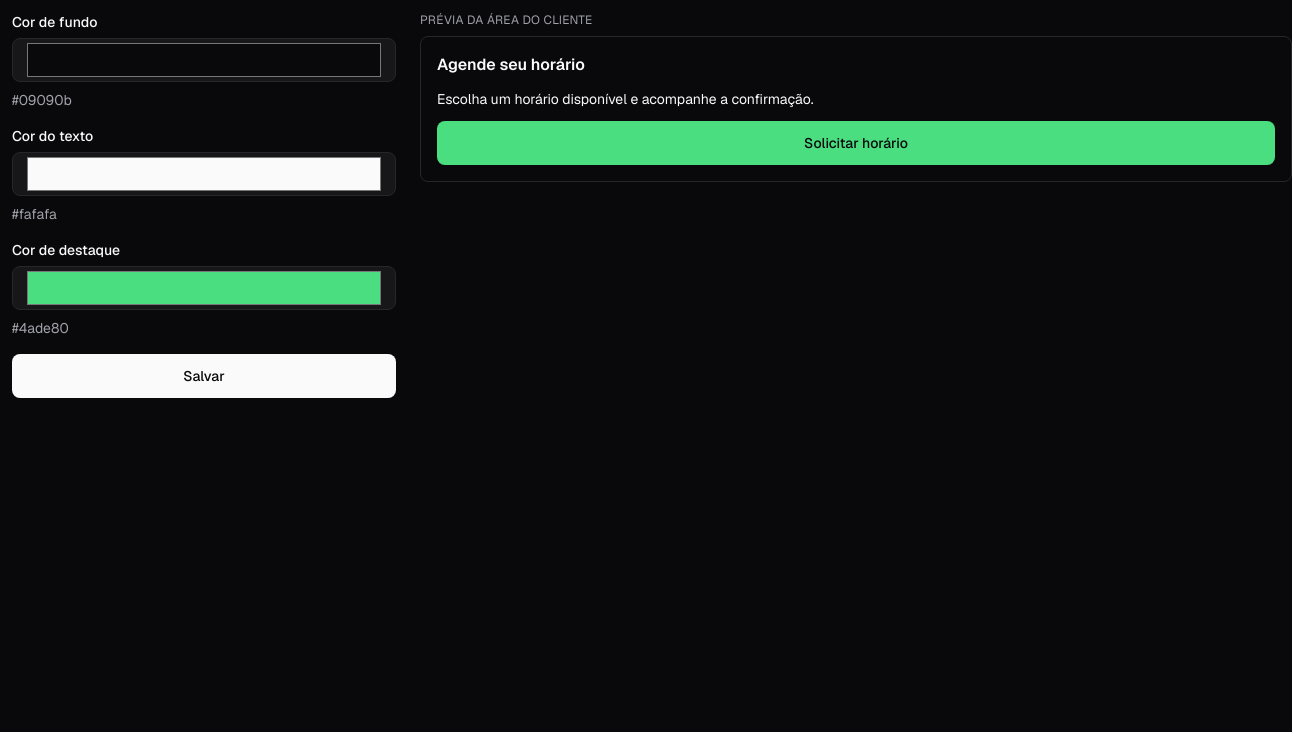
it: AppearanceSettingsForm › salva as cores editadas e confirma com o toast do design
The width and height of the screenshot is (1292, 732).
Step 1. Type "#facc15" into the colour field labelled "Cor de destaque" → (204, 288), box 12,266 -> 396,310
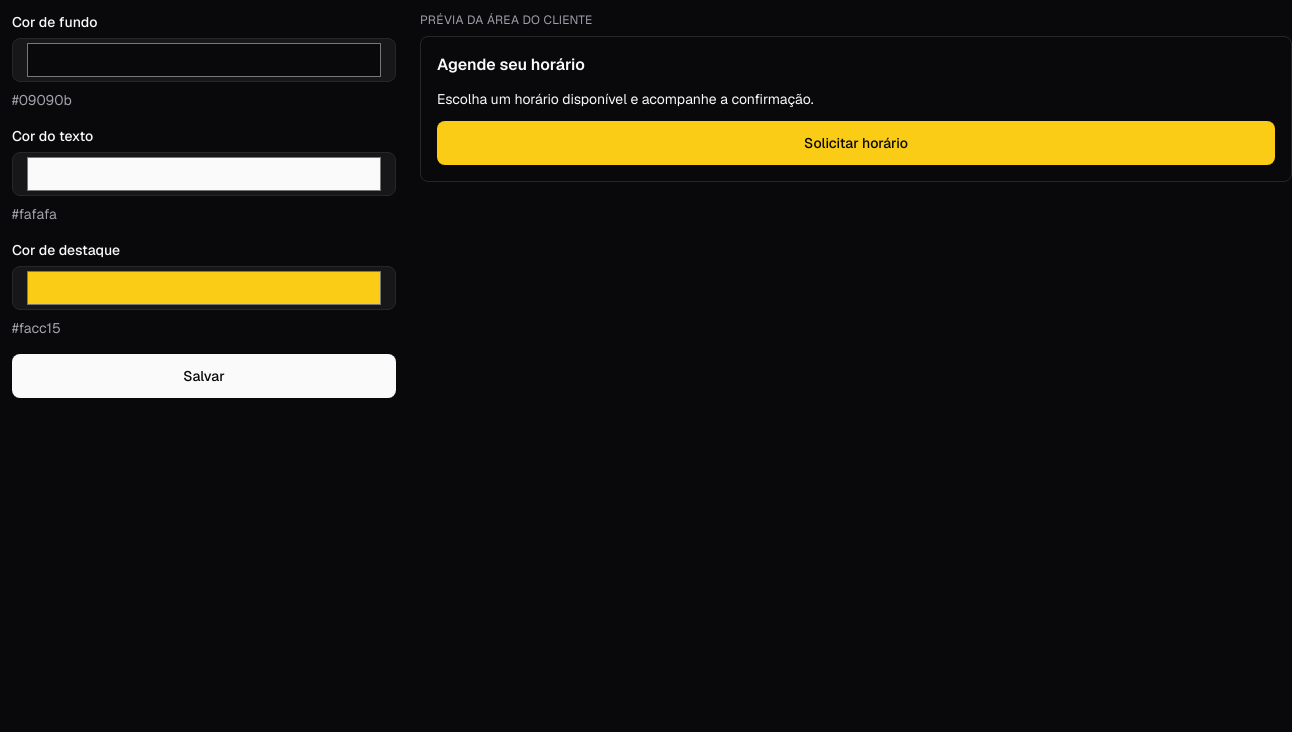
Step 2. Click the button "Salvar" → (204, 376), box 12,354 -> 396,398
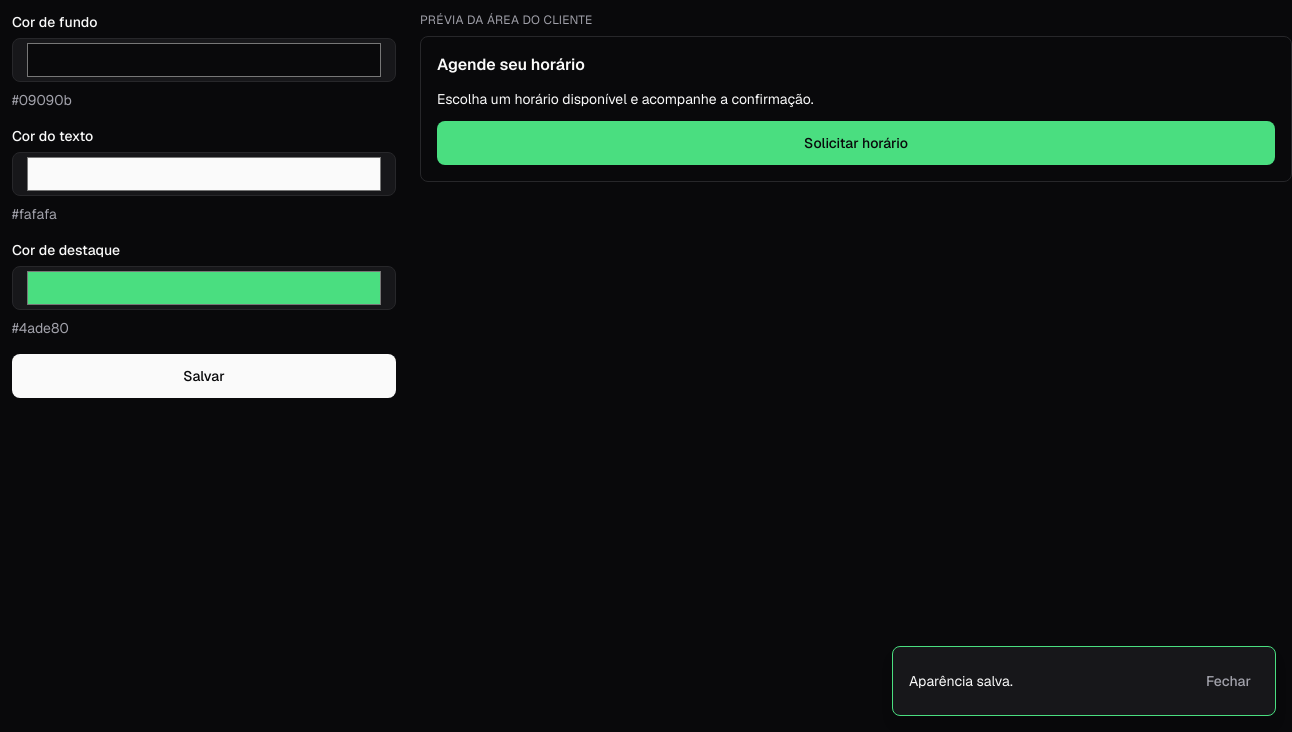
Result: the text "Aparência salva." is shown at 909,671 -> 1013,691
